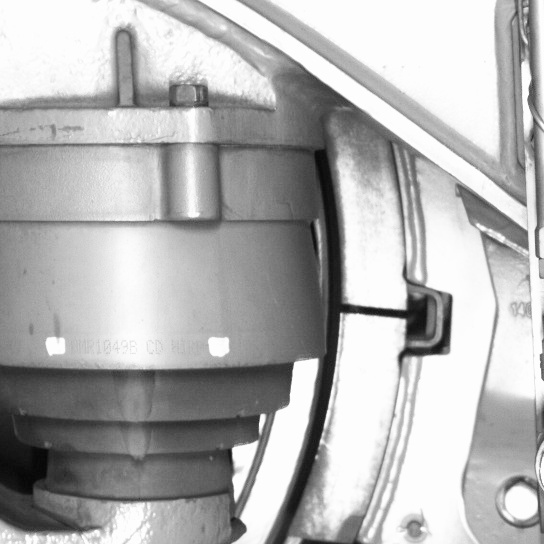KnifeSwitch: (262, 146, 422, 542)
